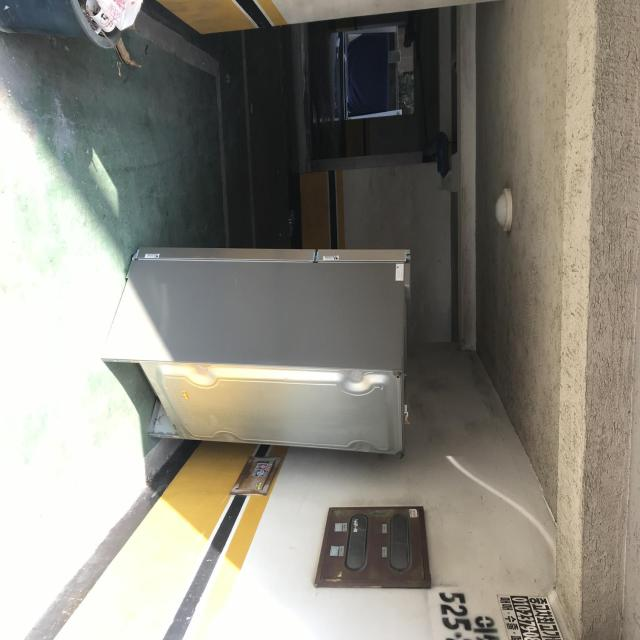refrigerator: (240, 223, 460, 541)
